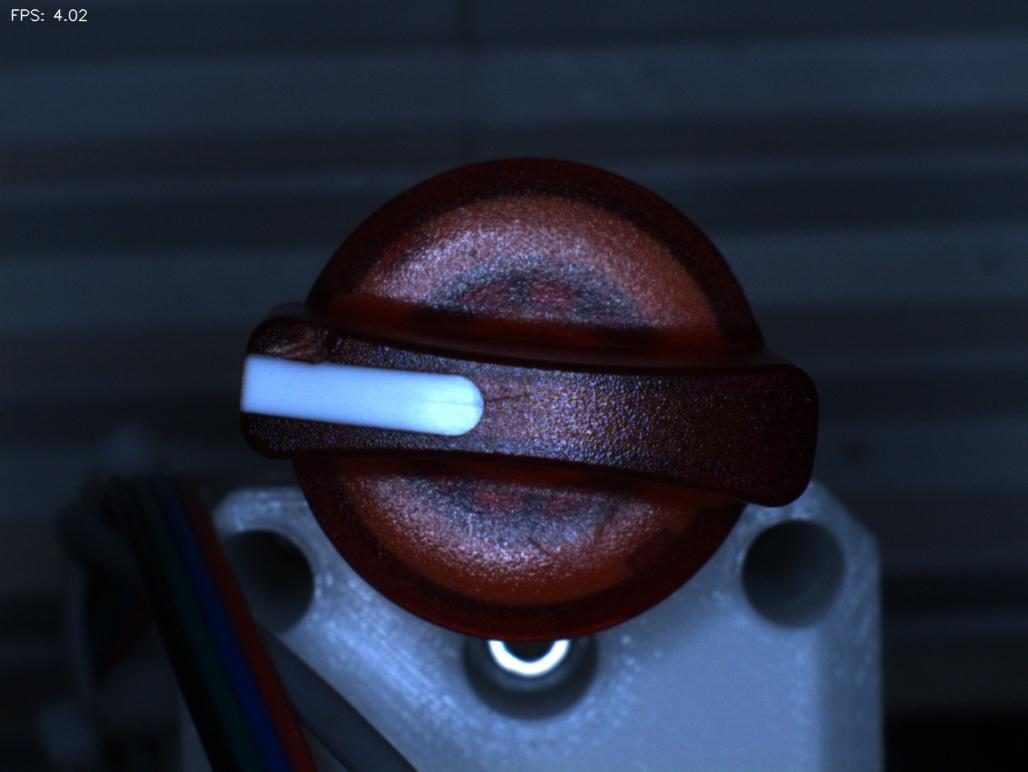Choc: (247, 315, 365, 385)
